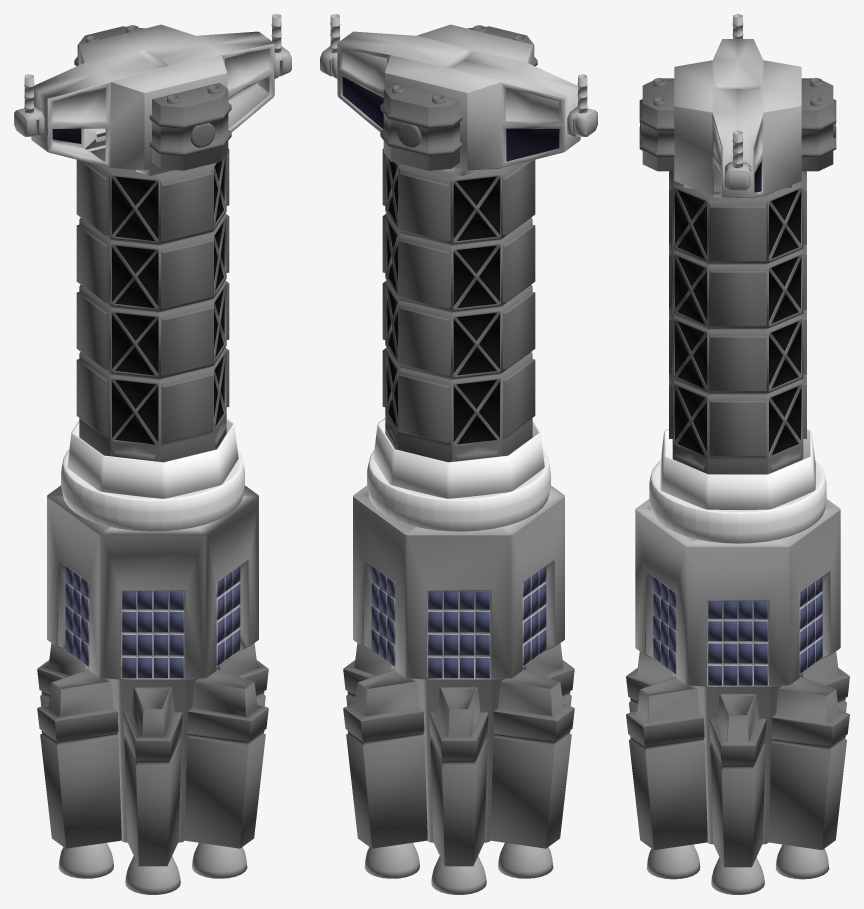
The model's file is ship.obj.
3 views of the same model, side by side, from view 1: azimuth 30°, elevation 25°; view 2: azimuth 150°, elevation 25°; view 3: azimuth 270°, elevation 25° (orthographic). The views are drawn at different scales.
Visible parts, largest first — view 1: Cube; view 2: Cube; view 3: Cube.
Boxes of the visible parts, box(x1,y1,x2,y2) form: Cube: box(14, 14, 291, 894); Cube: box(320, 14, 597, 894); Cube: box(626, 14, 849, 894).
Size of the model in its own units: 2.87 by 8.31 by 2.17.
